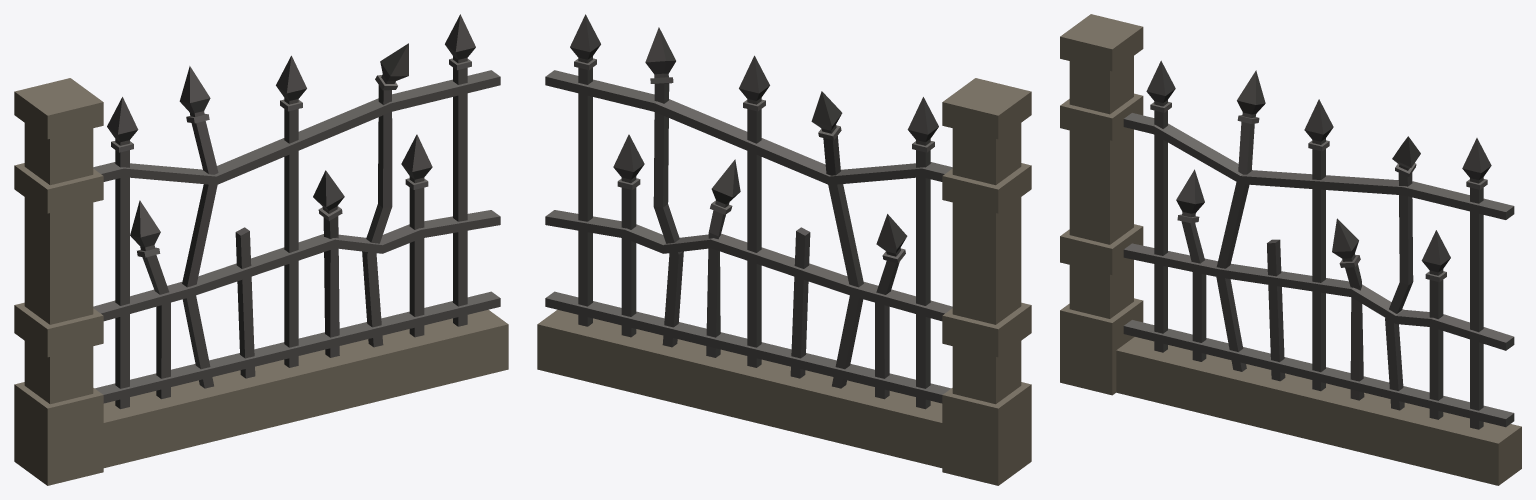
File: Graveyard_Fence.gltf
3 renders of one model, left to right at view 1: azimuth 30°, elevation 25°; view 2: azimuth 150°, elevation 25°; view 3: azimuth 330°, elevation 25°, orthographic. The views are drawn at different scales.
Visible parts, largest first — view 1: SF_Prop_Graveyard_Fence_01; view 2: SF_Prop_Graveyard_Fence_01; view 3: SF_Prop_Graveyard_Fence_01.
Part boxes in pixels (x1=…): SF_Prop_Graveyard_Fence_01: x1=14, y1=14, x2=508, y2=485; SF_Prop_Graveyard_Fence_01: x1=537, y1=14, x2=1031, y2=485; SF_Prop_Graveyard_Fence_01: x1=1060, y1=14, x2=1521, y2=485.
Bounding box in the file's own units: 0.0568 × 0.0432 × 0.00714.
1 material, 1 textured.
